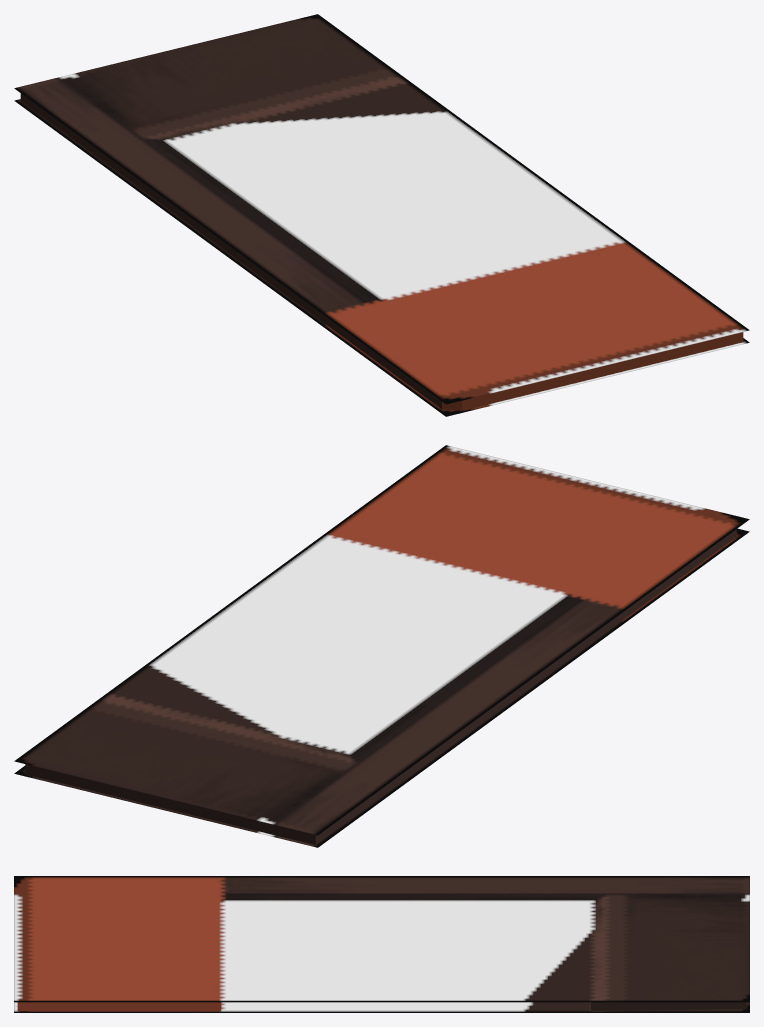
Rendered from pz_native_location_restaurant_seahorse_01_32_frame.obj.
3 views of the same model, one above another, from view 1: azimuth 30°, elevation 25°; view 2: azimuth 150°, elevation 25°; view 3: azimuth 270°, elevation 25° (orthographic). The views are drawn at different scales.
Parts seen in each view (by area): view 1: pz_native_location_restaurant_seahorse_01_32_frame; view 2: pz_native_location_restaurant_seahorse_01_32_frame; view 3: pz_native_location_restaurant_seahorse_01_32_frame.
Boxes of the visible parts, x1,y1,x2,y2 form: pz_native_location_restaurant_seahorse_01_32_frame: (14, 14, 749, 416); pz_native_location_restaurant_seahorse_01_32_frame: (14, 445, 749, 847); pz_native_location_restaurant_seahorse_01_32_frame: (14, 876, 749, 1012).
Bounding box in the file's own units: 1.03 × 0.04 × 2.54.
Materials: 1 (1 with a texture image).
